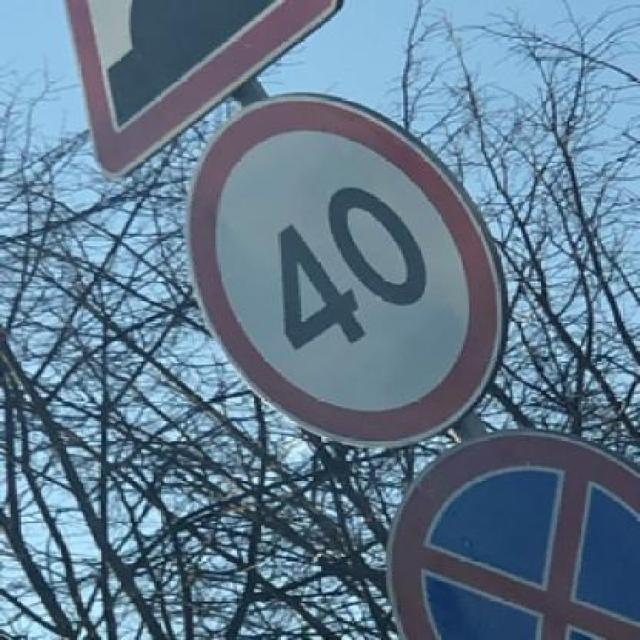forb_speed_over_40: (193, 95, 495, 441)
